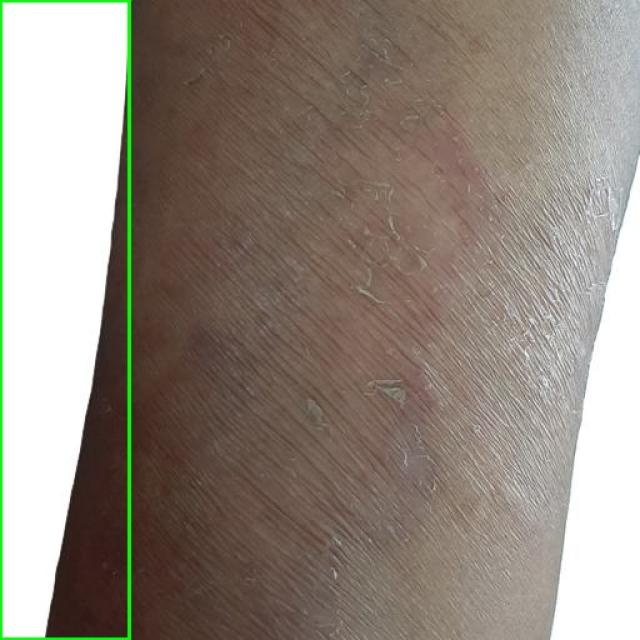Tinea Corporis: (0, 0, 129, 639)
